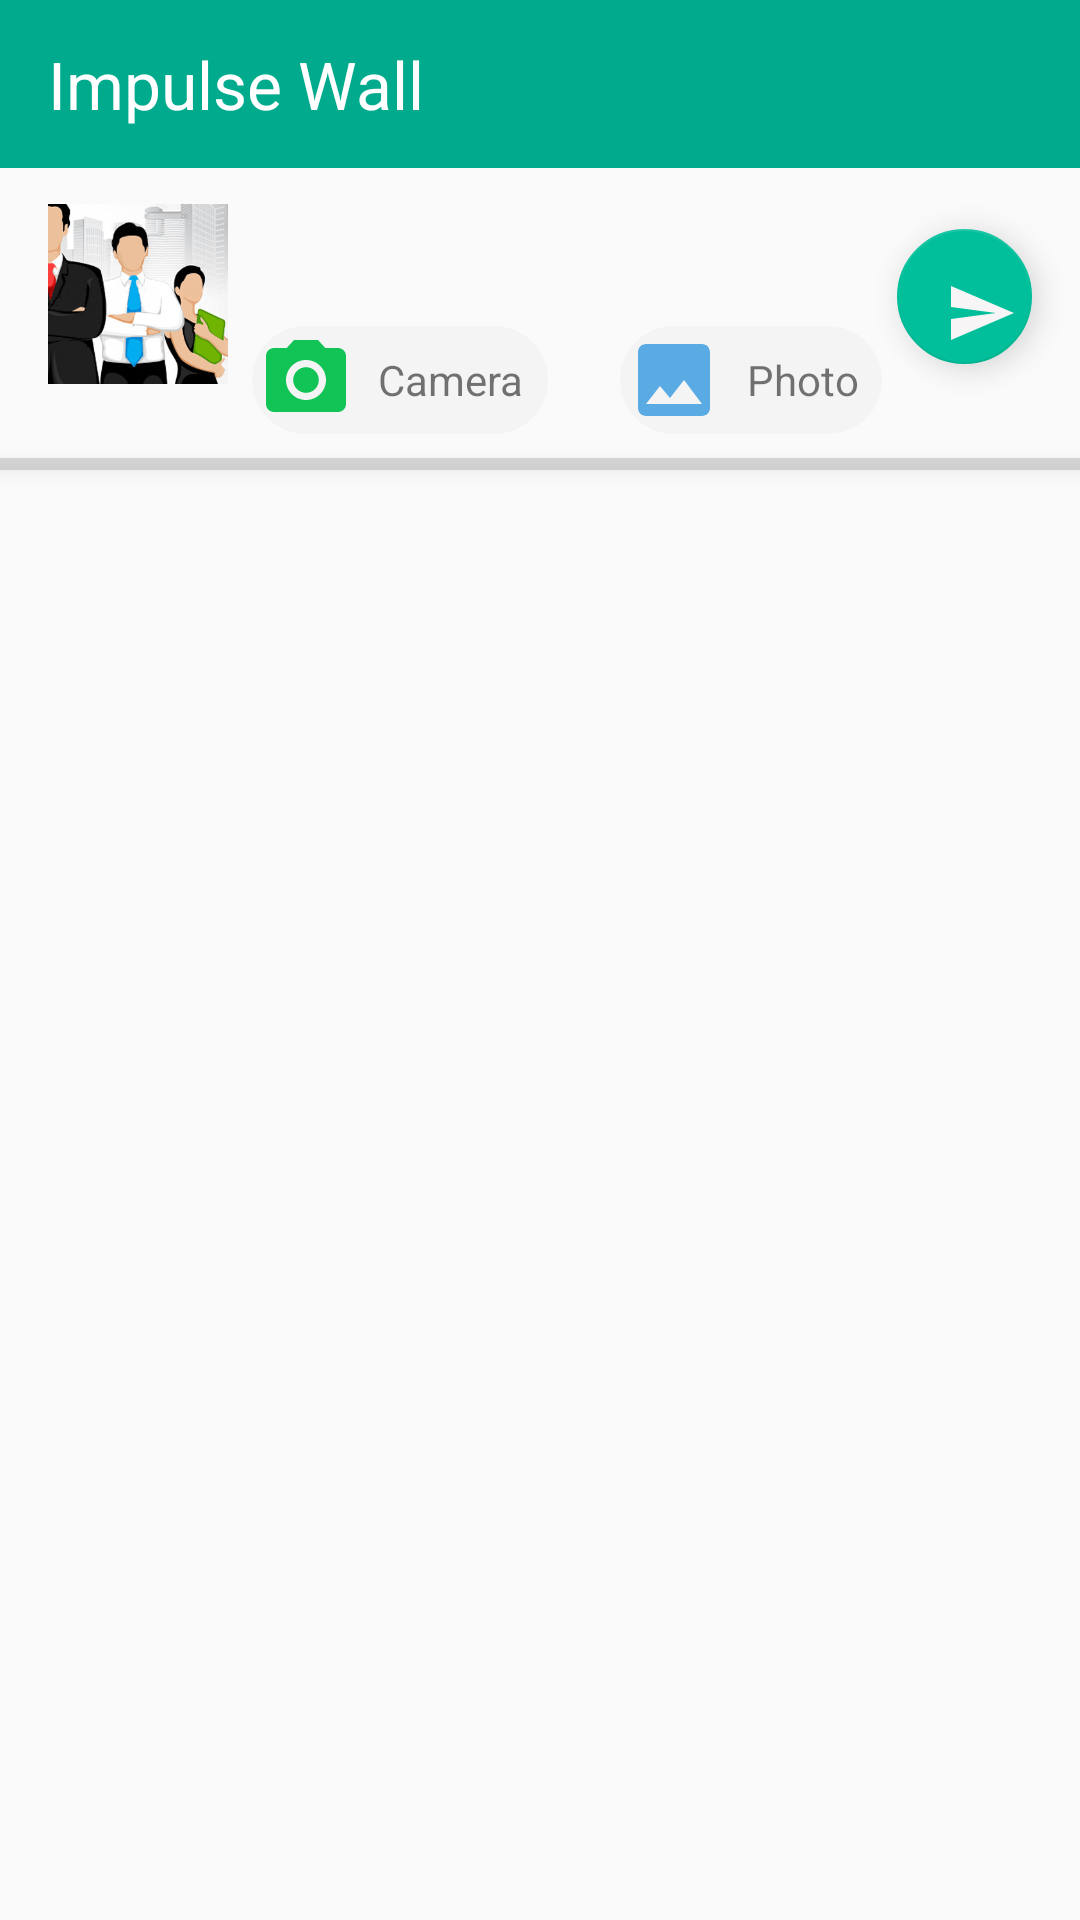

Named icons in this screenshot (1080 x 1920) and their centers, (x=x, y=y):
aboutus: (x=138, y=294)
send: (x=964, y=296)
